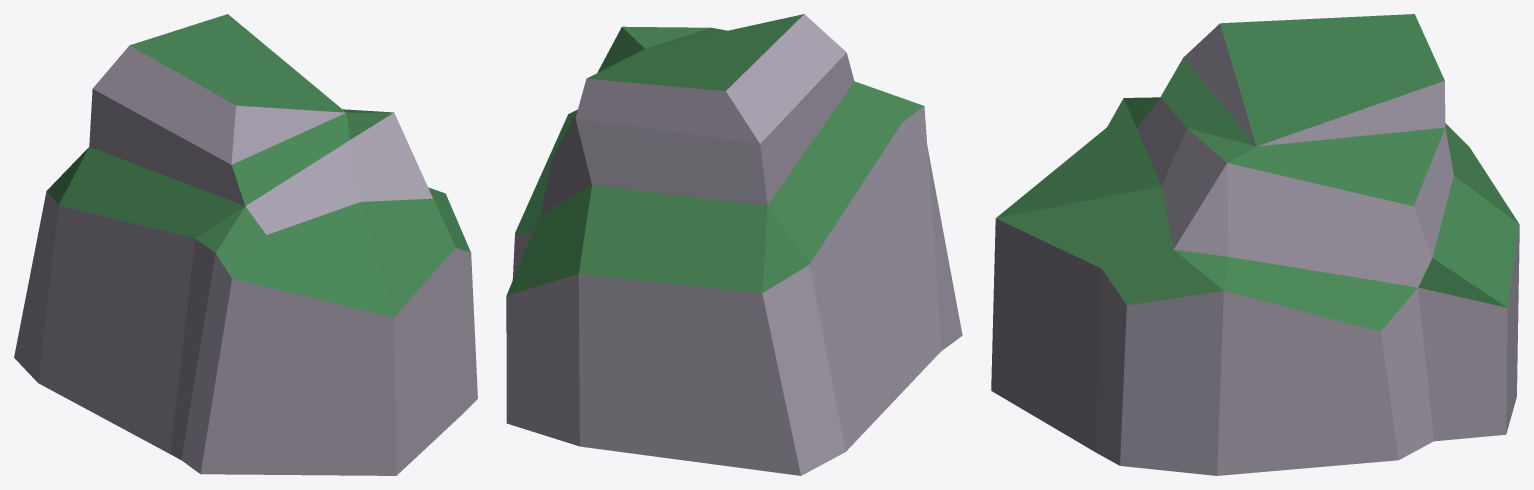
File: Rock_Moss_7-optimized.glb
The picture shows the model from 3 angles, left to right: view 1: azimuth 30°, elevation 25°; view 2: azimuth 150°, elevation 25°; view 3: azimuth 270°, elevation 25°; orthographic projection. The views are drawn at different scales.
Visible parts, largest first — view 1: Rock_Moss_7; view 2: Rock_Moss_7; view 3: Rock_Moss_7.
Part boxes in pixels (x1,y1,x2,y2): Rock_Moss_7: [14, 14, 477, 475]; Rock_Moss_7: [506, 14, 962, 475]; Rock_Moss_7: [991, 14, 1519, 475].
Size of the model in its own units: 0.8756 by 0.7739 by 1.1.
